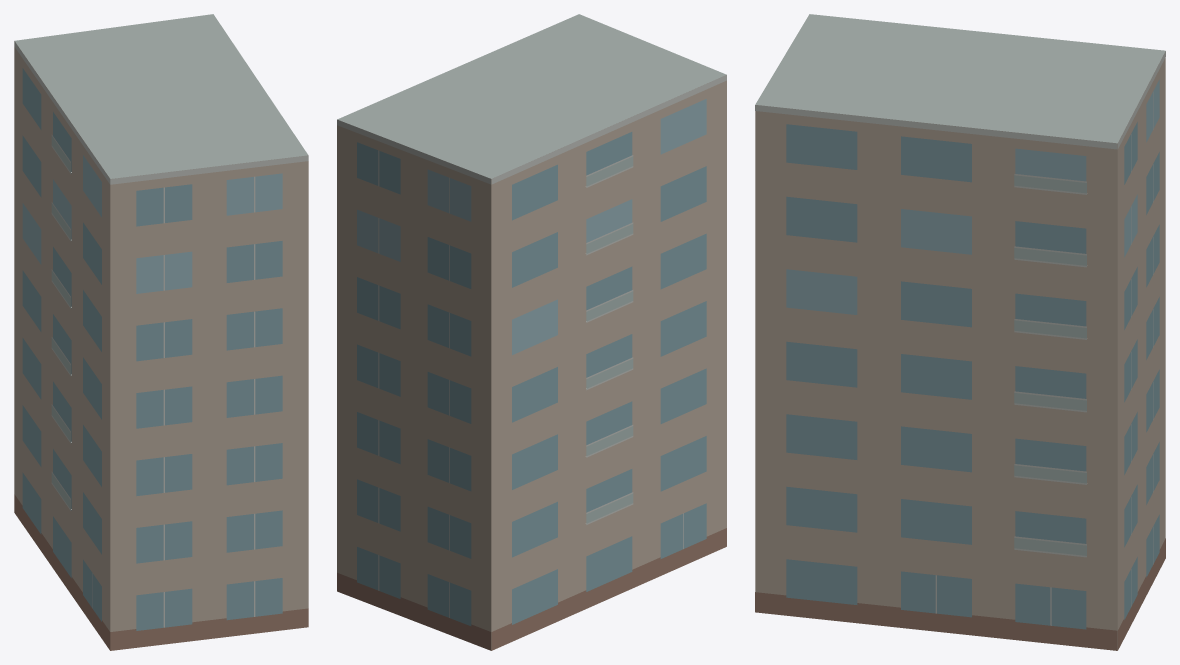
The model's file is survey-upis-32744664.glb.
3 views of the same model, side by side, from view 1: azimuth 30°, elevation 25°; view 2: azimuth 150°, elevation 25°; view 3: azimuth 270°, elevation 25° (orthographic). The views are drawn at different scales.
Parts seen in each view (by area): view 1: survey-upis-32744664.tmp; view 2: survey-upis-32744664.tmp; view 3: survey-upis-32744664.tmp.
Part boxes in pixels (box(x1,y1,x2,y2)): survey-upis-32744664.tmp: box(14, 14, 308, 650); survey-upis-32744664.tmp: box(337, 14, 726, 650); survey-upis-32744664.tmp: box(755, 14, 1165, 650).
Size of the model in its own units: 10.94 by 20 by 14.68.
